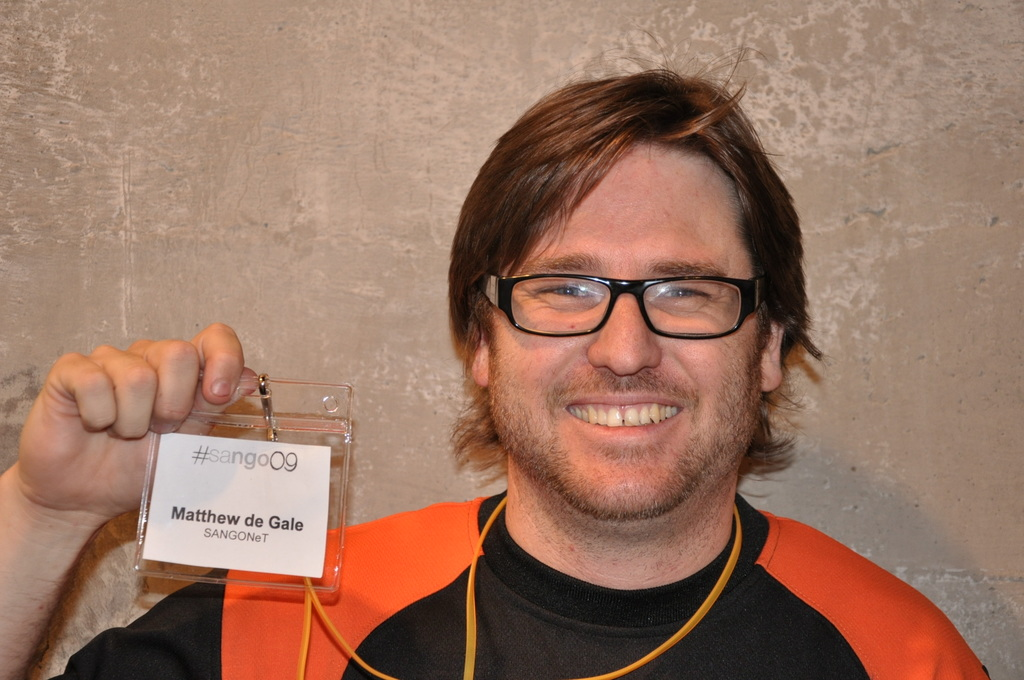Human_hand: (15, 316, 263, 526)
